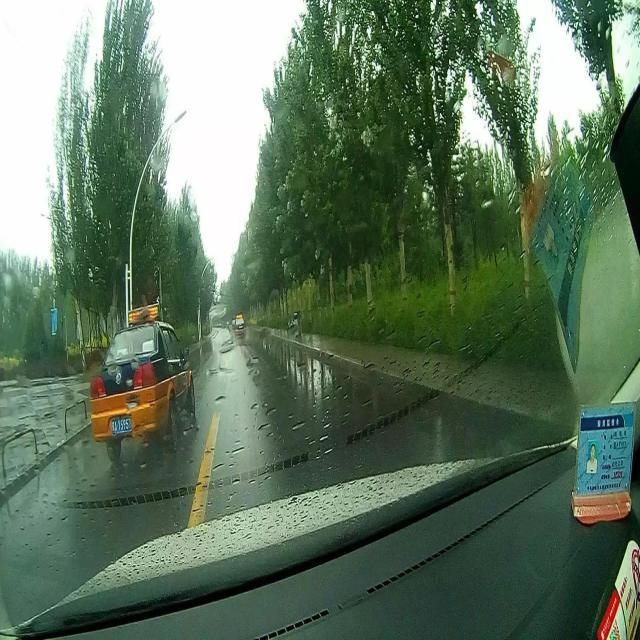car: (89, 303, 195, 459), (232, 314, 247, 335)
